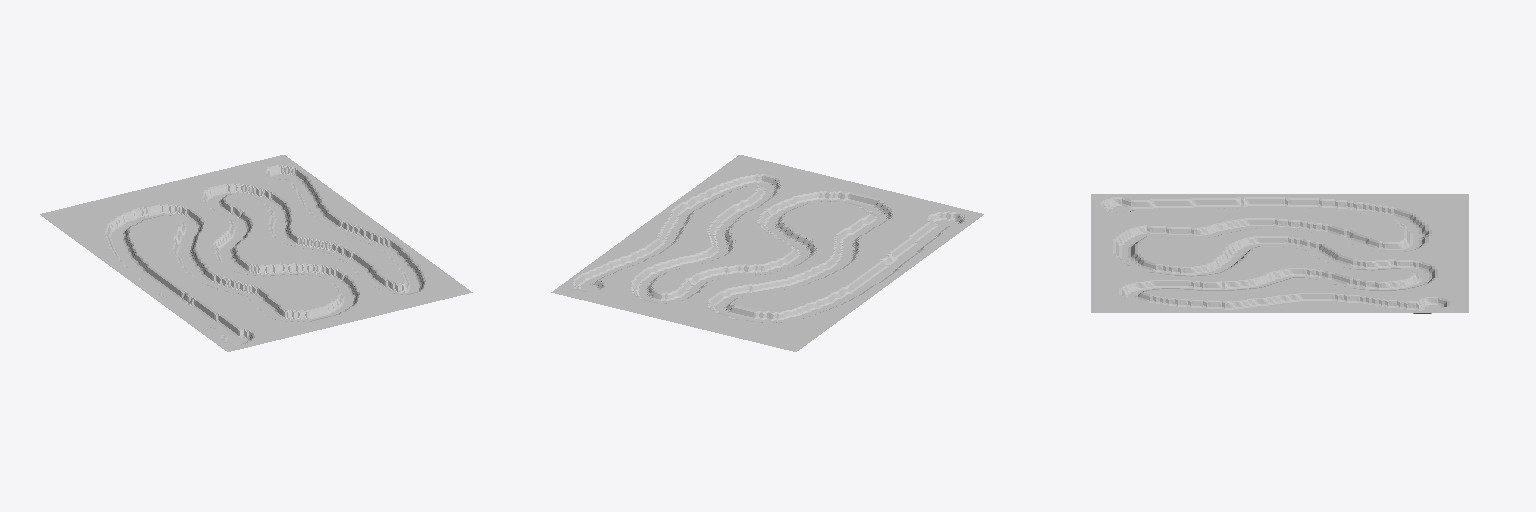
Rendered from level1-mesh.obj.
The picture shows the model from 3 angles: view 1: azimuth 30°, elevation 25°; view 2: azimuth 150°, elevation 25°; view 3: azimuth 270°, elevation 25°; orthographic projection.
Parts seen in each view (by area): view 1: Plane; view 2: Plane; view 3: Plane.
Part boxes in pixels (x1,y1,x2,y2): Plane: (40, 155, 472, 351); Plane: (551, 155, 983, 351); Plane: (1091, 194, 1468, 313).
Bounding box in the file's own units: 150 × 3 × 199.